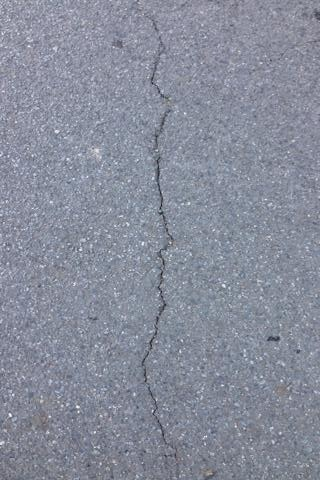A: (139, 11, 188, 475)
